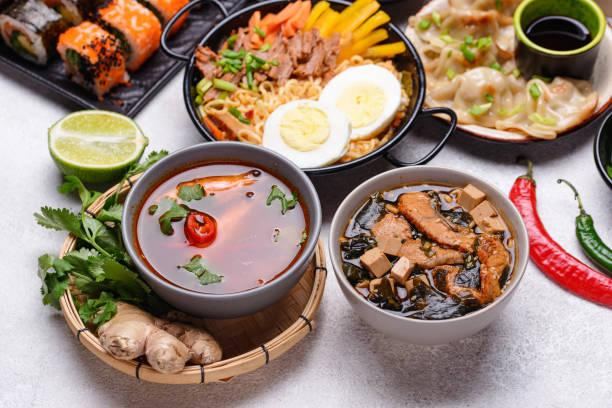Braised Crucian Carp: (62, 141, 319, 385), (177, 1, 440, 180), (328, 163, 525, 342), (401, 1, 609, 146)
